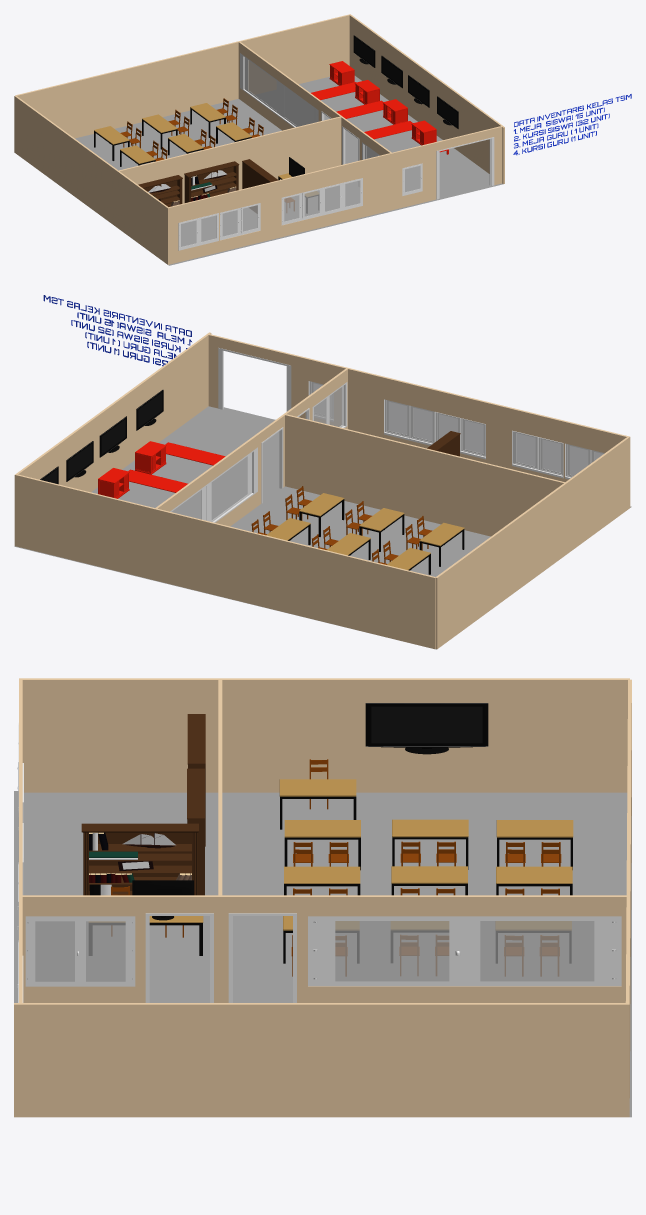
File: r_tsm.glb
3 renders of one model, top to bottom at view 1: azimuth 30°, elevation 25°; view 2: azimuth 150°, elevation 25°; view 3: azimuth 270°, elevation 25°, orthographic. The views are drawn at different scales.
Visible parts, largest first — view 1: Asset3DLoader.sceneRoot; view 2: Asset3DLoader.sceneRoot; view 3: Asset3DLoader.sceneRoot.
Part boxes in pixels (box(x1,y1,x2,y2)): Asset3DLoader.sceneRoot: box(14, 14, 631, 265); Asset3DLoader.sceneRoot: box(14, 295, 631, 649); Asset3DLoader.sceneRoot: box(14, 678, 631, 1117).
Bounding box in the file's own units: 2097 × 246 × 1211.
28 materials, 1 textured.
